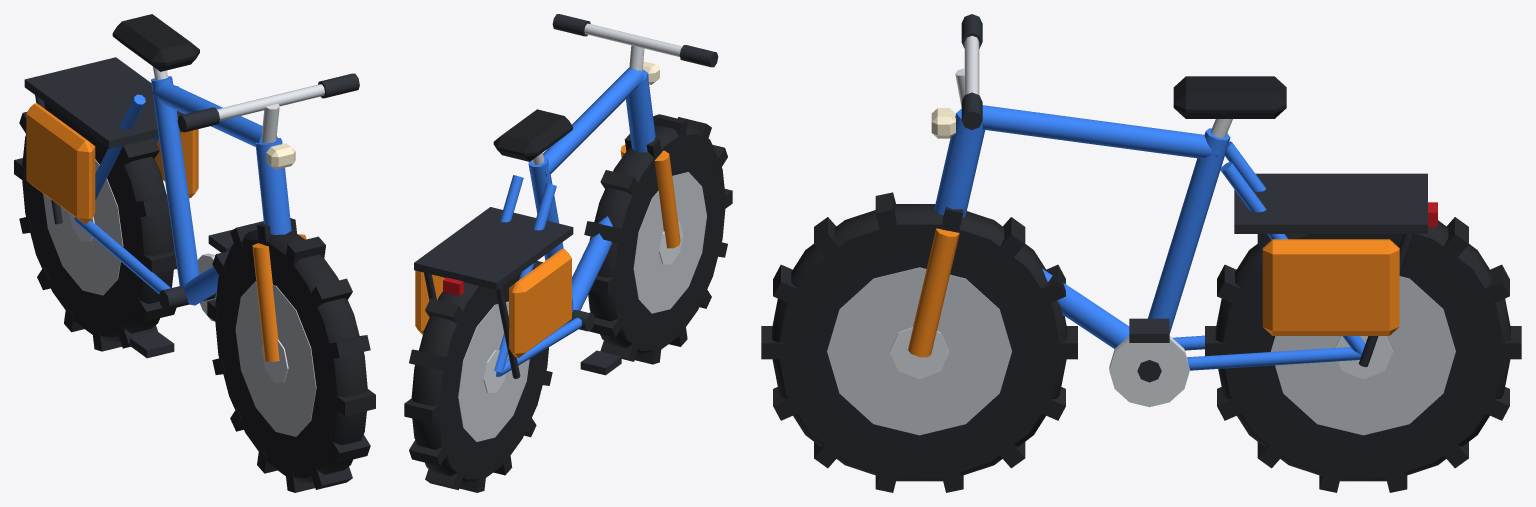
The model's file is mtb.glb.
The picture shows the model from 3 angles, left to right: view 1: azimuth 30°, elevation 25°; view 2: azimuth 150°, elevation 25°; view 3: azimuth 270°, elevation 25°; orthographic projection. The views are drawn at different scales.
Parts seen in each view (by area): view 1: wheel_F, body, wheel_R, fork; view 2: body, wheel_F, wheel_R, fork; view 3: wheel_F, body, wheel_R, fork.
Boxes of the visible parts, x1=… form: wheel_F: x1=207, y1=218, x2=375, y2=492; body: x1=24, y1=14, x2=277, y2=358; wheel_R: x1=14, y1=102, x2=176, y2=351; fork: x1=177, y1=73, x2=359, y2=361; body: x1=414, y1=68, x2=643, y2=378; wheel_F: x1=584, y1=114, x2=732, y2=364; wheel_R: x1=404, y1=267, x2=552, y2=492; fork: x1=552, y1=14, x2=718, y2=248; wheel_F: x1=761, y1=192, x2=1077, y2=492; body: x1=981, y1=76, x2=1437, y2=407; wheel_R: x1=1205, y1=217, x2=1521, y2=492; fork: x1=908, y1=14, x2=985, y2=357.
Size of the model in its own units: 0.57 by 1.15 by 1.88.
